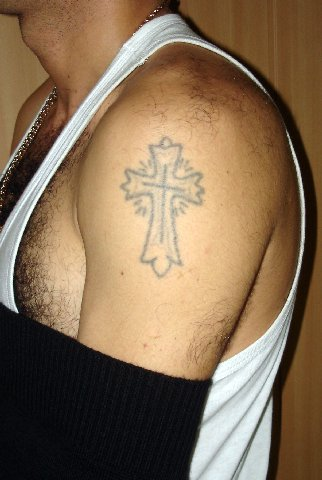tatu9_krest: (111, 135, 222, 284)
